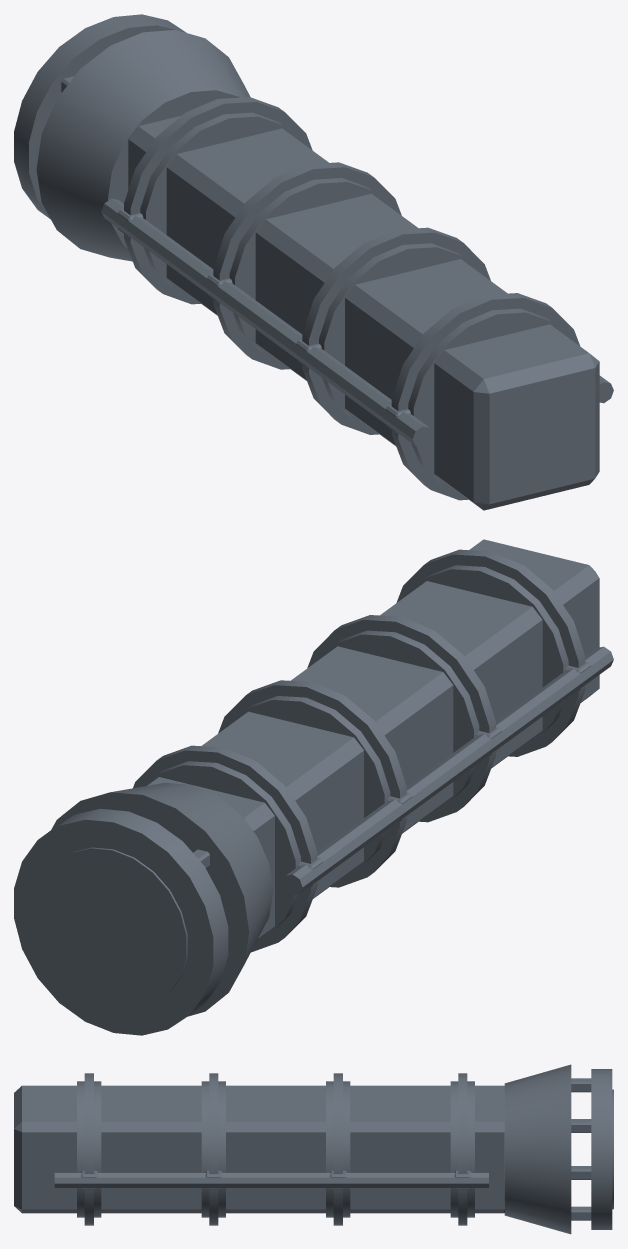
File: heavy_laser_lens.glb
3 renders of one model, top to bottom at view 1: azimuth 30°, elevation 25°; view 2: azimuth 150°, elevation 25°; view 3: azimuth 270°, elevation 25°, orthographic. The views are drawn at different scales.
Parts seen in each view (by area): view 1: heavy_laser_lens; view 2: heavy_laser_lens; view 3: heavy_laser_lens.
Part boxes in pixels (x1,y1,x2,y2): heavy_laser_lens: (14,14,613,510); heavy_laser_lens: (14,539,613,1035); heavy_laser_lens: (14,1064,613,1234).
Size of the model in its own units: 0.296 by 0.296 by 1.04.
